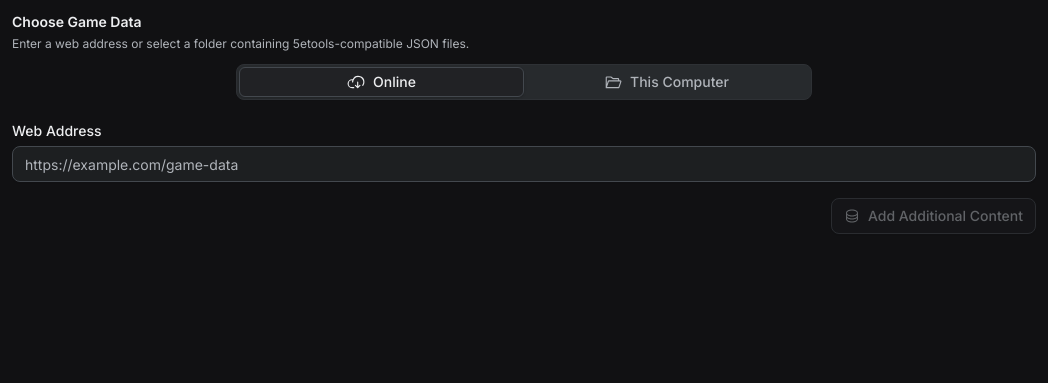
Test: data source switching › previews included and skipped content before the explicit import action
Later steps or results of the test are not shown.
Step 1. Type "https://example.test/rules" into the field labelled "Web Address" → [524, 164], box [12,146,1036,182]
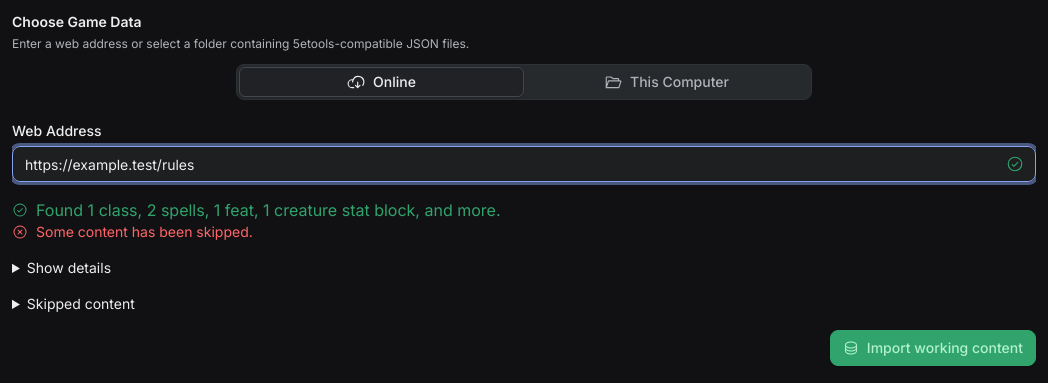
Now the 3rd icon is shown, box [12,202,28,218]
Now the icon next to "Some content has been skipped." is shown, box [12,224,28,240]
